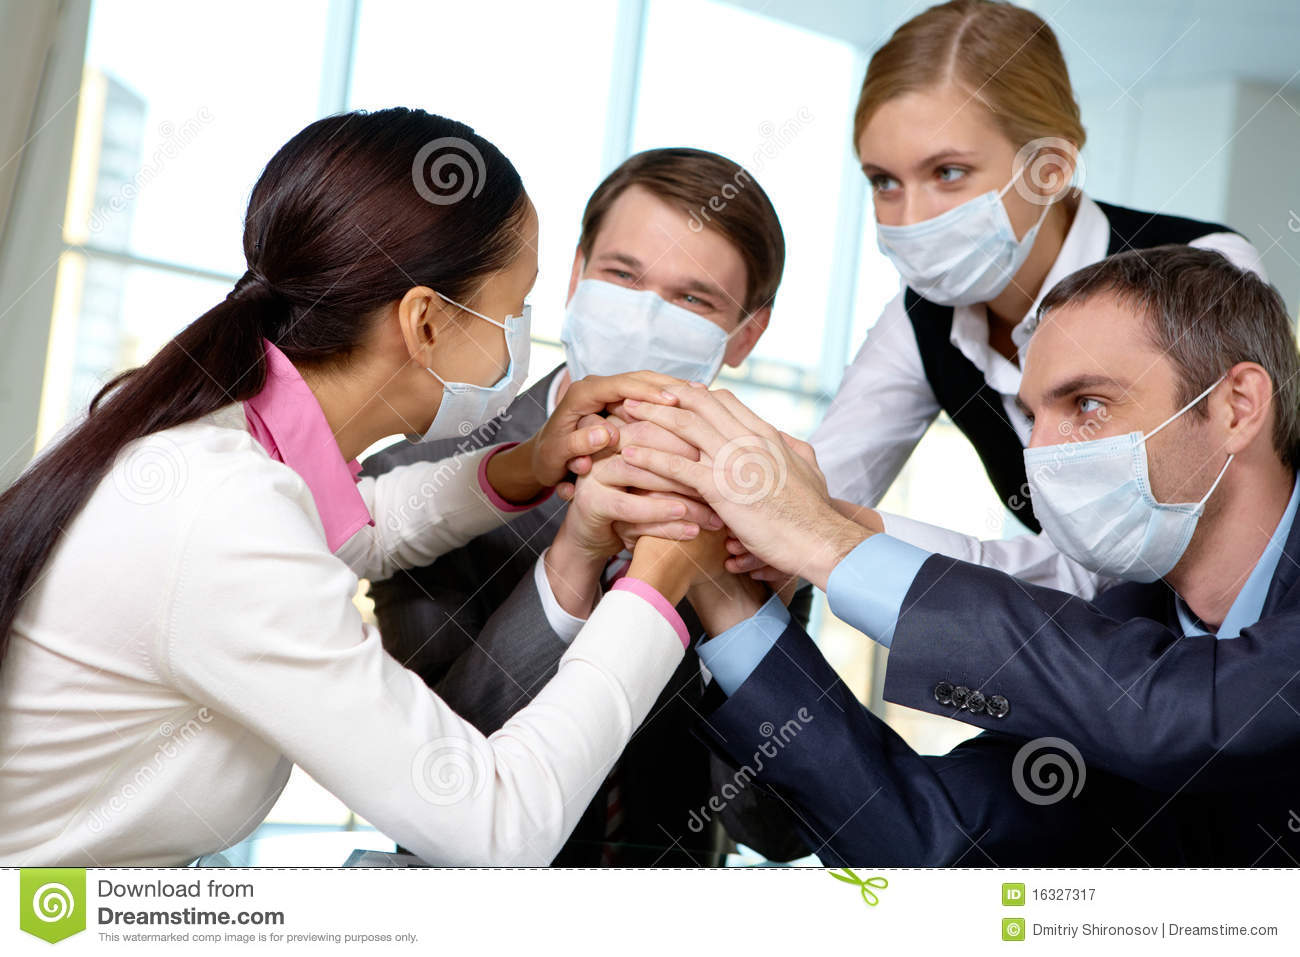mask: (566, 279, 761, 429), (1028, 439, 1213, 592), (861, 196, 1030, 295)
